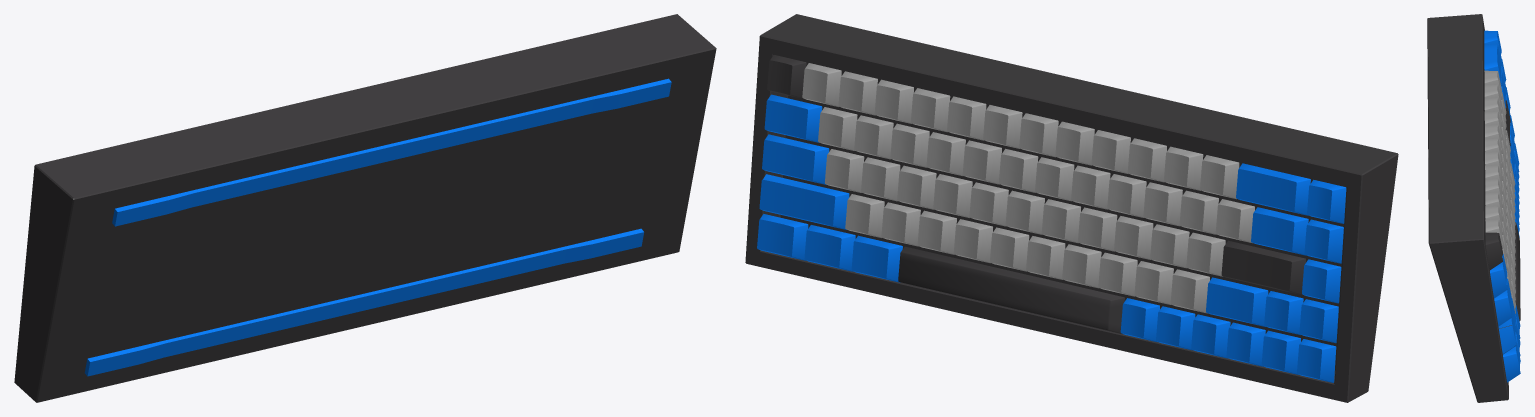
Rendered from mechanicalKeyboard.glb.
3 renders of one model, left to right at view 1: azimuth 30°, elevation 25°; view 2: azimuth 150°, elevation 25°; view 3: azimuth 270°, elevation 25°, orthographic. The views are drawn at different scales.
Parts seen in each view (by area): view 1: Case.005, Feet; view 2: Object_4, Case.005, Specials4, Specials4.002; view 3: Case.005, Object_4, Specials4, Specials4.002.
Part boxes in pixels (x1=…): Case.005: x1=14, y1=14, x2=716, y2=402; Feet: x1=84, y1=78, x2=671, y2=376; Object_4: x1=802, y1=63, x2=1254, y2=313; Case.005: x1=745, y1=14, x2=1398, y2=402; Specials4: x1=757, y1=94, x2=1346, y2=382; Specials4.002: x1=767, y1=55, x2=1305, y2=333; Case.005: x1=1427, y1=14, x2=1511, y2=402; Object_4: x1=1484, y1=70, x2=1515, y2=313; Specials4: x1=1484, y1=30, x2=1520, y2=382; Specials4.002: x1=1485, y1=100, x2=1520, y2=320.
Bounding box in the file's own units: 46.46 × 16.62 × 8.28.
